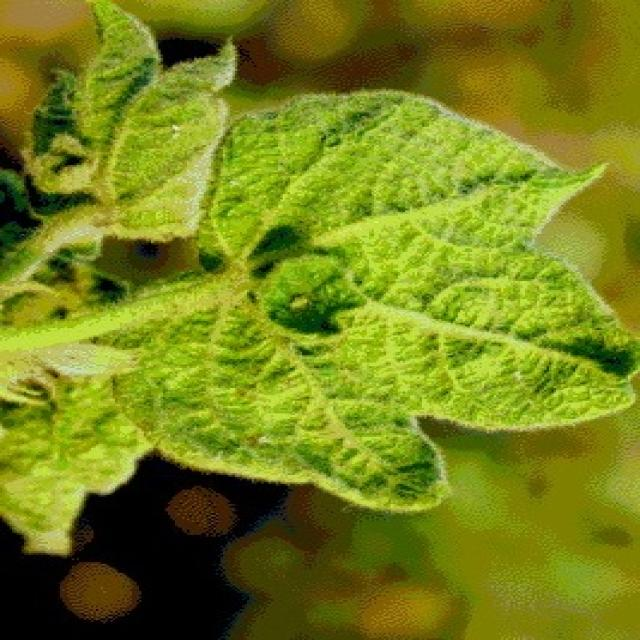Leaf Curl Virus: (40, 92, 571, 458)
